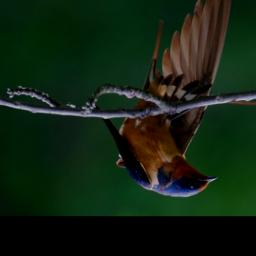Swallow: (93, 0, 236, 200)
